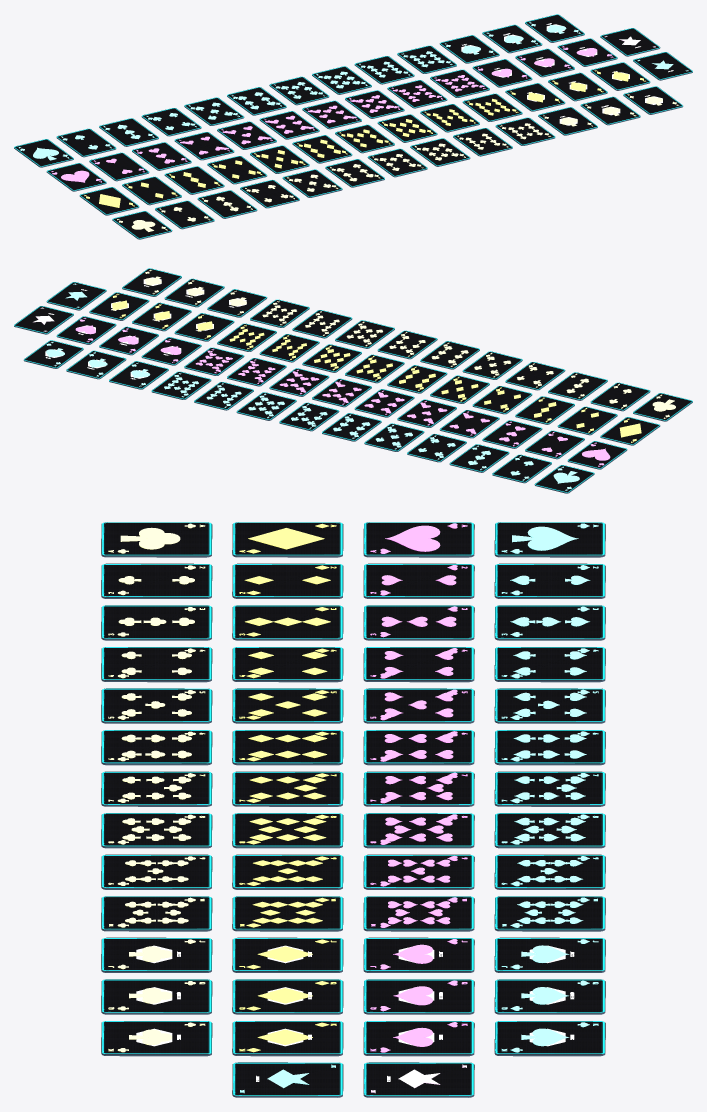
File: futuristic_deck.glb
The picture shows the model from 3 angles, top to bottom: view 1: azimuth 30°, elevation 25°; view 2: azimuth 150°, elevation 25°; view 3: azimuth 270°, elevation 25°; orthographic projection. The views are drawn at different scales.
Visible parts, largest first — view 1: FC_2C_body, FC_2D_body, FC_2S_body, FC_2H_body, FC_3C_body, FC_4C_body, FC_3D_body, FC_4D_body, FC_JokerA_body, FC_JokerB_body, FC_3H_body, FC_4H_body (+42 smaller); view 2: FC_2C_body, FC_2D_body, FC_2S_body, FC_2H_body, FC_3C_body, FC_4C_body, FC_3D_body, FC_4D_body, FC_JokerB_body, FC_3H_body, FC_3S_body, FC_4S_body (+42 smaller); view 3: FC_2C_body, FC_2D_body, FC_2H_body, FC_2S_body, FC_3C_body, FC_JokerA_body, FC_JokerB_body, FC_3D_body, FC_4C_body, FC_3S_body, FC_3H_body, FC_5C_body (+45 smaller).
Part boxes in pixels (x1,y1,x2,y2): FC_2C_body: (155, 200, 214, 229); FC_2D_body: (122, 176, 181, 205); FC_2S_body: (56, 128, 116, 157); FC_2H_body: (89, 152, 149, 181); FC_3C_body: (197, 190, 257, 218); FC_4C_body: (240, 180, 299, 208); FC_3D_body: (164, 166, 224, 194); FC_4D_body: (207, 156, 267, 184); FC_JokerA_body: (600, 28, 660, 56); FC_JokerB_body: (633, 52, 692, 80); FC_3H_body: (132, 142, 191, 170); FC_4H_body: (174, 132, 234, 160); FC_2C_body: (590, 382, 650, 411); FC_2D_body: (557, 406, 617, 435); FC_2S_body: (492, 454, 551, 483); FC_2H_body: (525, 430, 584, 459); FC_3C_body: (548, 372, 607, 400); FC_4C_body: (505, 362, 565, 390); FC_3D_body: (515, 396, 574, 424); FC_4D_body: (472, 386, 532, 414); FC_JokerB_body: (46, 282, 106, 310); FC_3H_body: (482, 420, 542, 448); FC_3S_body: (449, 444, 509, 472); FC_4S_body: (407, 434, 466, 462); FC_2C_body: (101, 563, 212, 598); FC_2D_body: (232, 563, 343, 598); FC_2H_body: (363, 563, 474, 598); FC_2S_body: (494, 563, 605, 598); FC_3C_body: (101, 605, 212, 640); FC_JokerA_body: (363, 1062, 474, 1097); FC_JokerB_body: (232, 1062, 343, 1097); FC_3D_body: (232, 605, 343, 640); FC_4C_body: (101, 647, 212, 682); FC_3S_body: (494, 605, 605, 640); FC_3H_body: (363, 605, 474, 640); FC_5C_body: (101, 688, 212, 723).
Bounding box in the file's own units: 10.77 × 0.0213 × 4.
10 materials, 2 textured.
